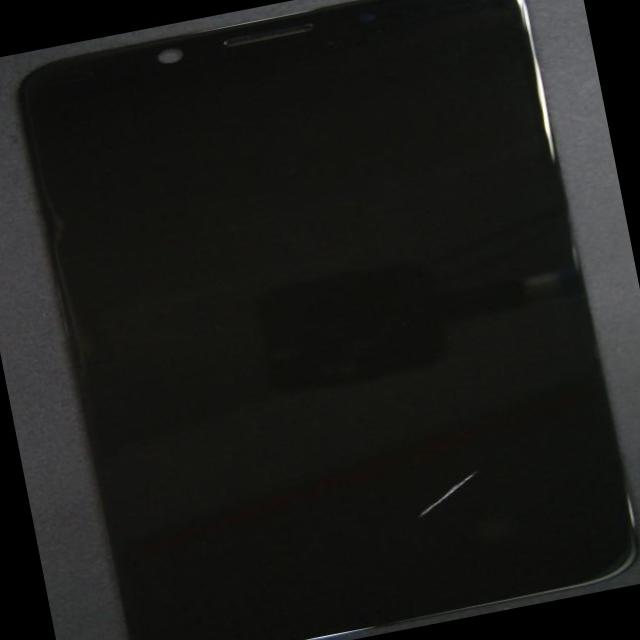scratch: (408, 468, 482, 516)
